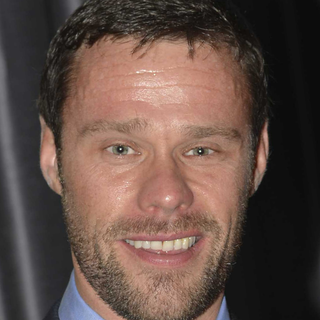eye: (176, 140, 226, 164), (97, 138, 146, 162)
